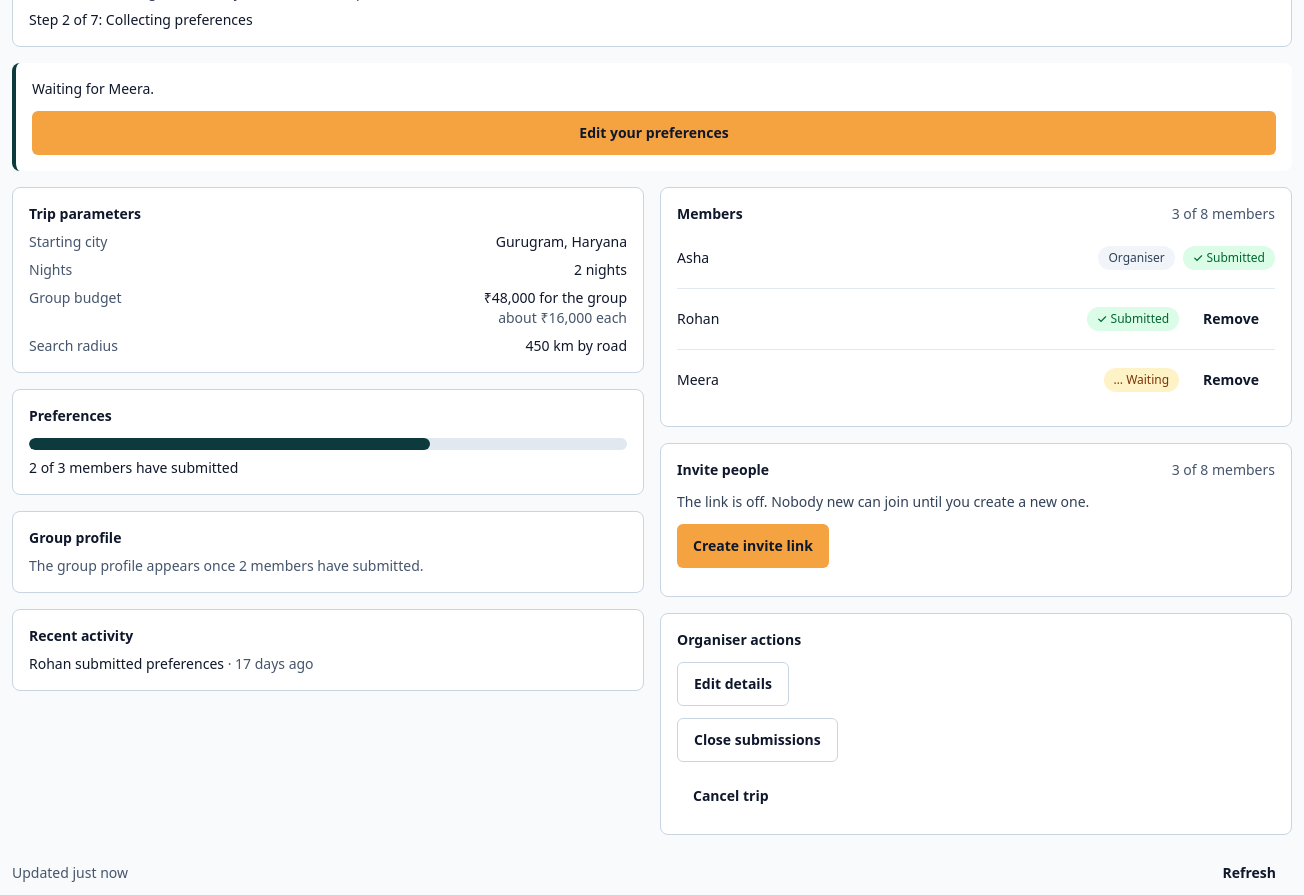
Test: Trip dashboard › a finalised trip › a trip still being planned keeps its own wording
(page scrolled)
Step 1. Click the button "Cancel trip" → (731, 796), box [677, 774, 784, 818]
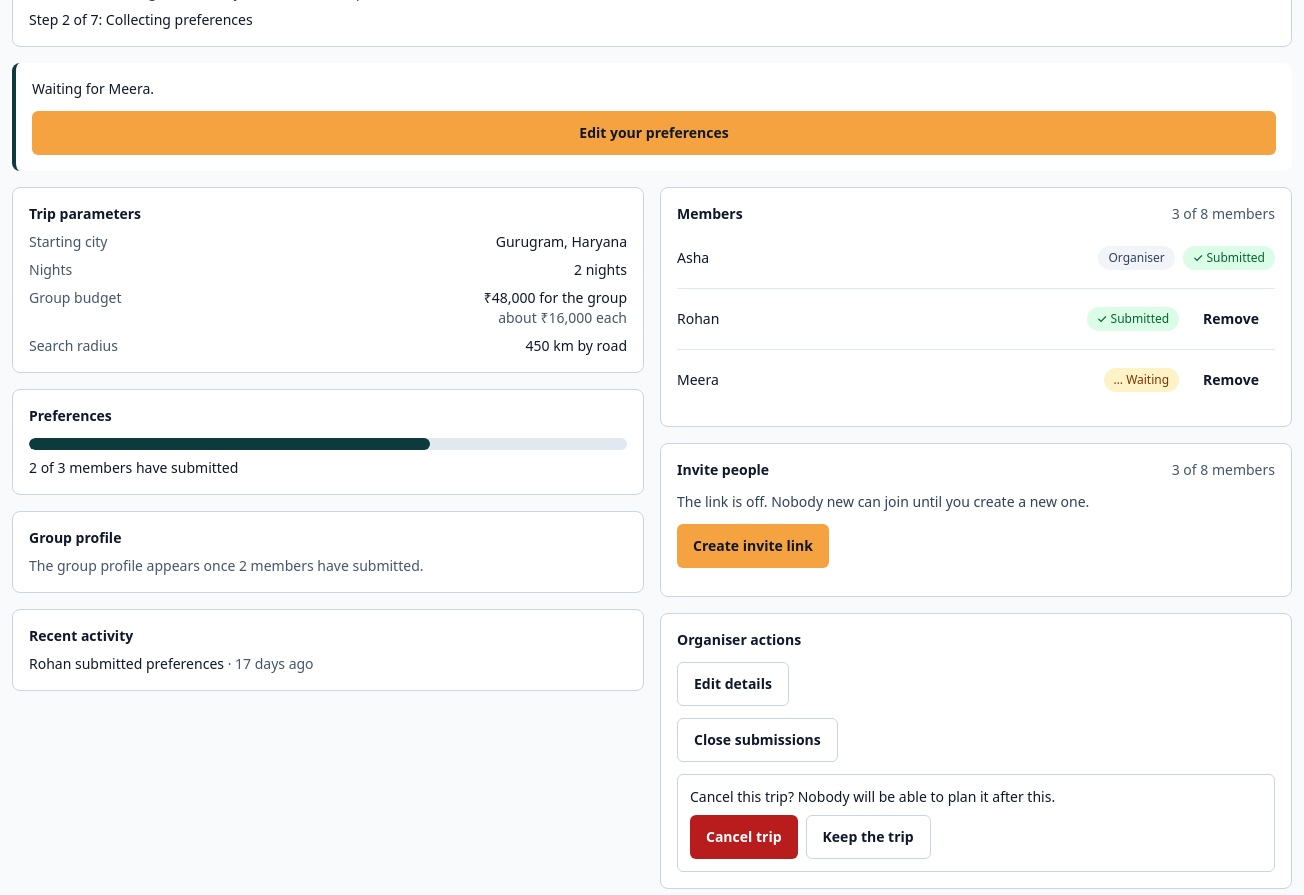
Result: the text "Cancel this trip? Nobody will be able to plan it after this." is shown at [690, 787, 1055, 806]
